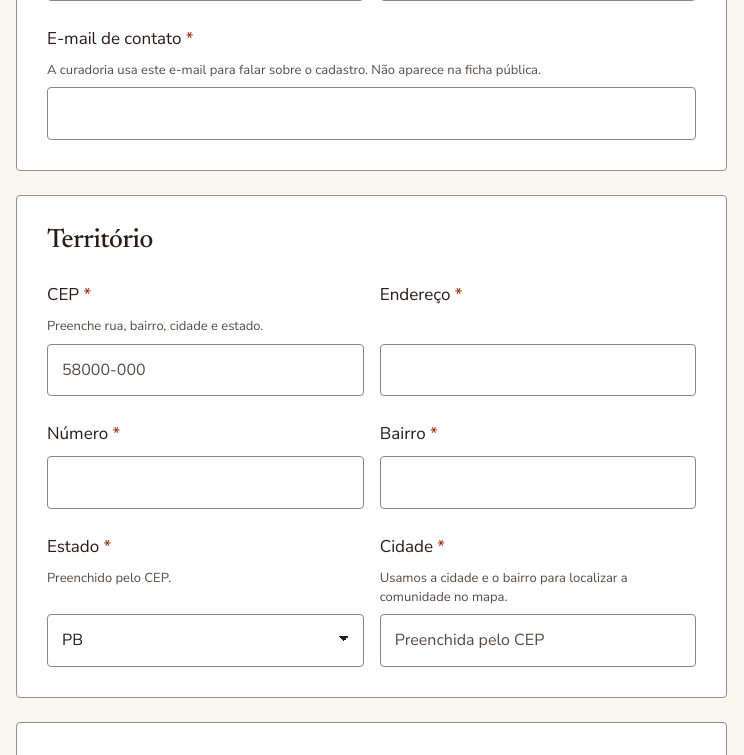
Test: CommunityRegister › preenche a cidade quando ela não está na lista da RMR
(page scrolled)
In the field labelled "CEP": (205, 370) x1=47 y1=344 x2=364 y2=396, type "58400265"
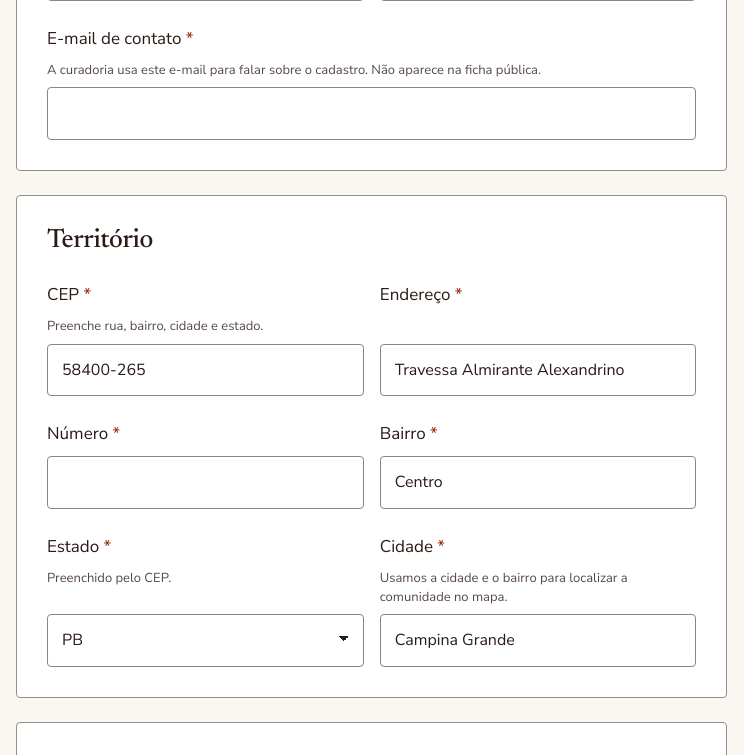
Expected: the field labelled "Cidade" holds "Campina Grande", x1=380 y1=614 x2=696 y2=667
